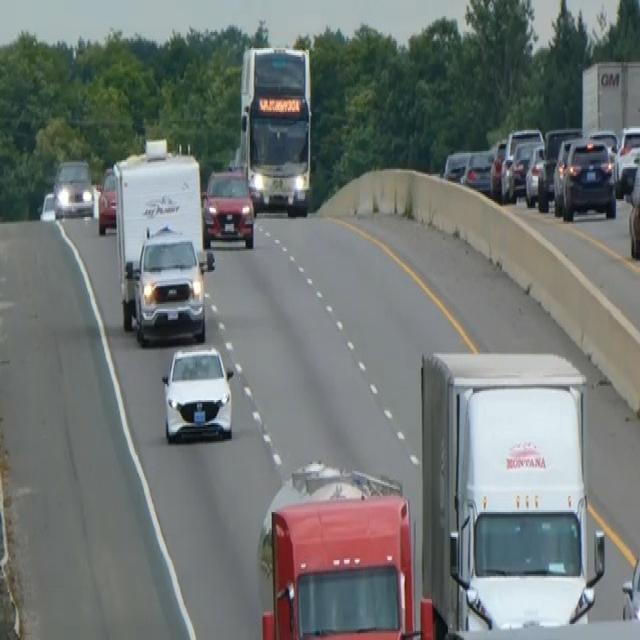bus: (237, 41, 314, 217)
car: (159, 340, 235, 446), (560, 135, 616, 221), (202, 165, 255, 249), (52, 156, 93, 218), (552, 135, 580, 212), (621, 535, 639, 633), (614, 123, 639, 192), (461, 146, 496, 194), (510, 137, 537, 197), (96, 163, 117, 233), (524, 142, 546, 206), (488, 137, 507, 199), (442, 148, 469, 183), (628, 188, 639, 262), (38, 190, 56, 220)
jeep: (124, 222, 215, 345)
lorry: (256, 459, 417, 638)
